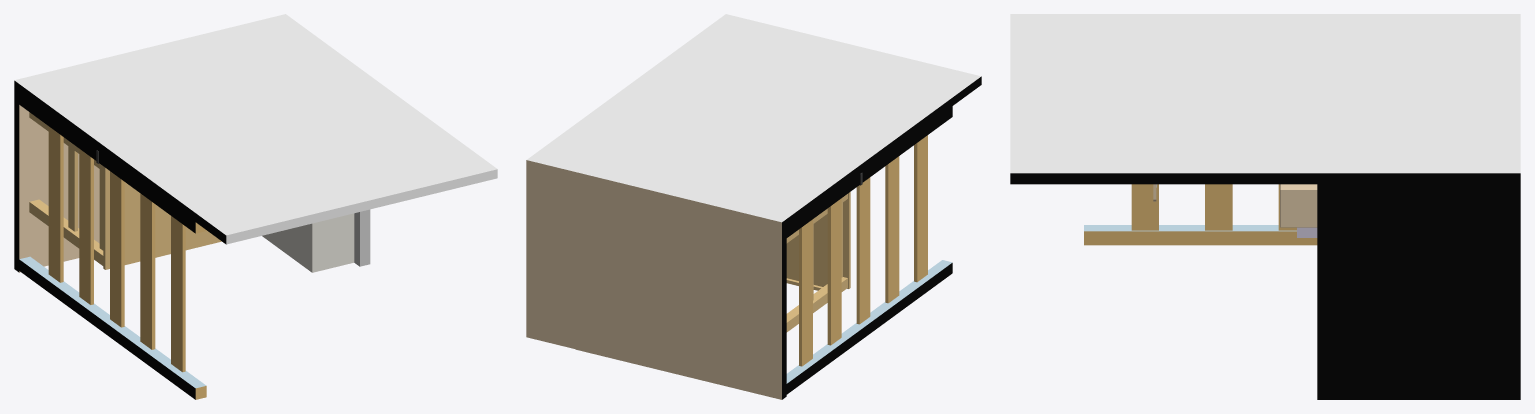
File: Room3.gltf
3 views of the same model, side by side, from view 1: azimuth 30°, elevation 25°; view 2: azimuth 150°, elevation 25°; view 3: azimuth 270°, elevation 25° (orthographic). The views are drawn at different scales.
Parts seen in each view (by area): view 1: Room, Desk; view 2: Room, Desk; view 3: Room, Cologne cubby.
Part boxes in pixels (x1,y1,x2,y2): Room: [14, 14, 497, 399]; Desk: [29, 112, 221, 269]; Room: [526, 14, 981, 399]; Desk: [786, 192, 850, 332]; Room: [1010, 14, 1520, 399]; Cologne cubby: [1280, 184, 1317, 227].
Size of the model in its own units: 1.57 by 1.04 by 2.11.
